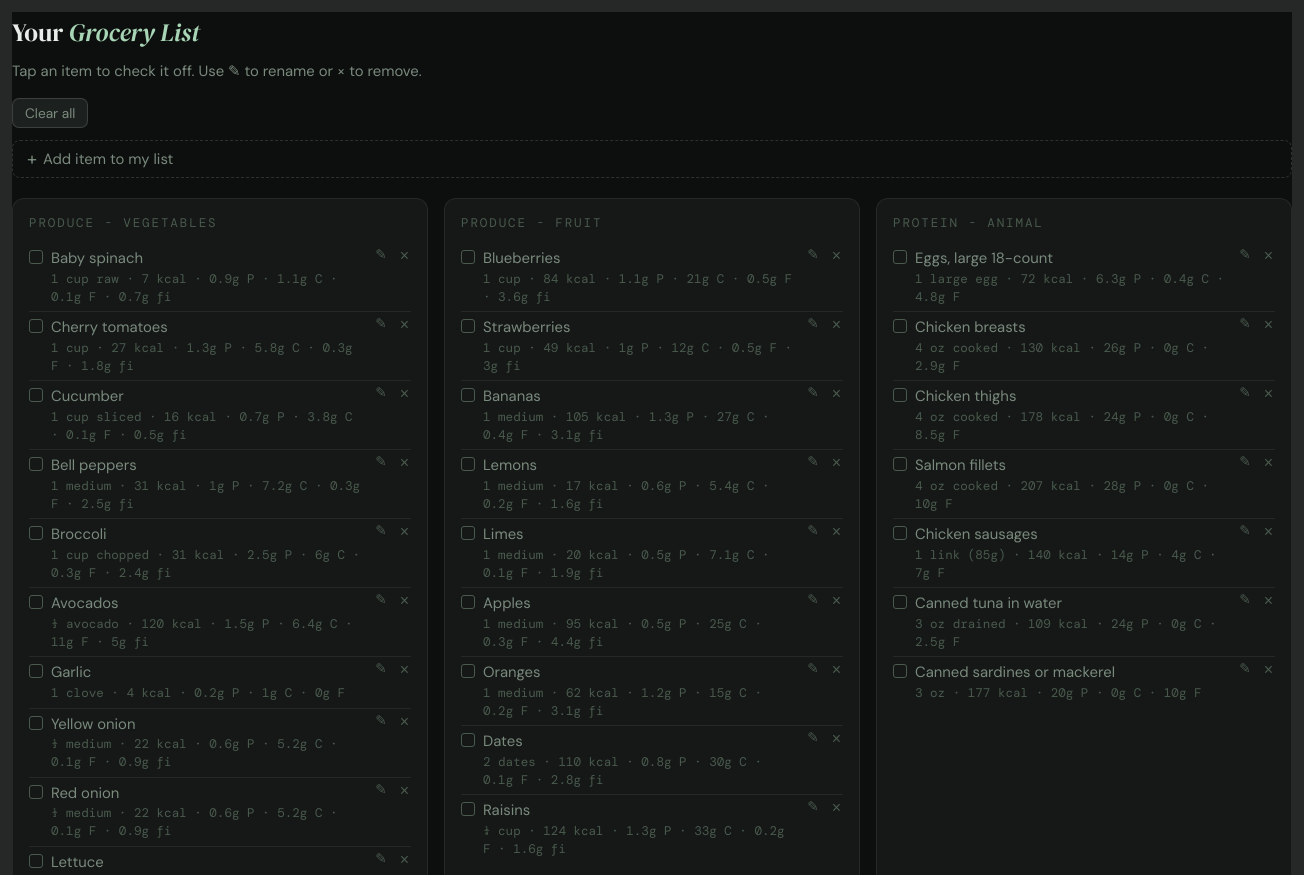
Test: GroceryPanel — dynamic catalog › clicking the toggle reveals the add-item form
Click the button with aria-label "add grocery item" at point(108, 159), box [12,140,1292,178]
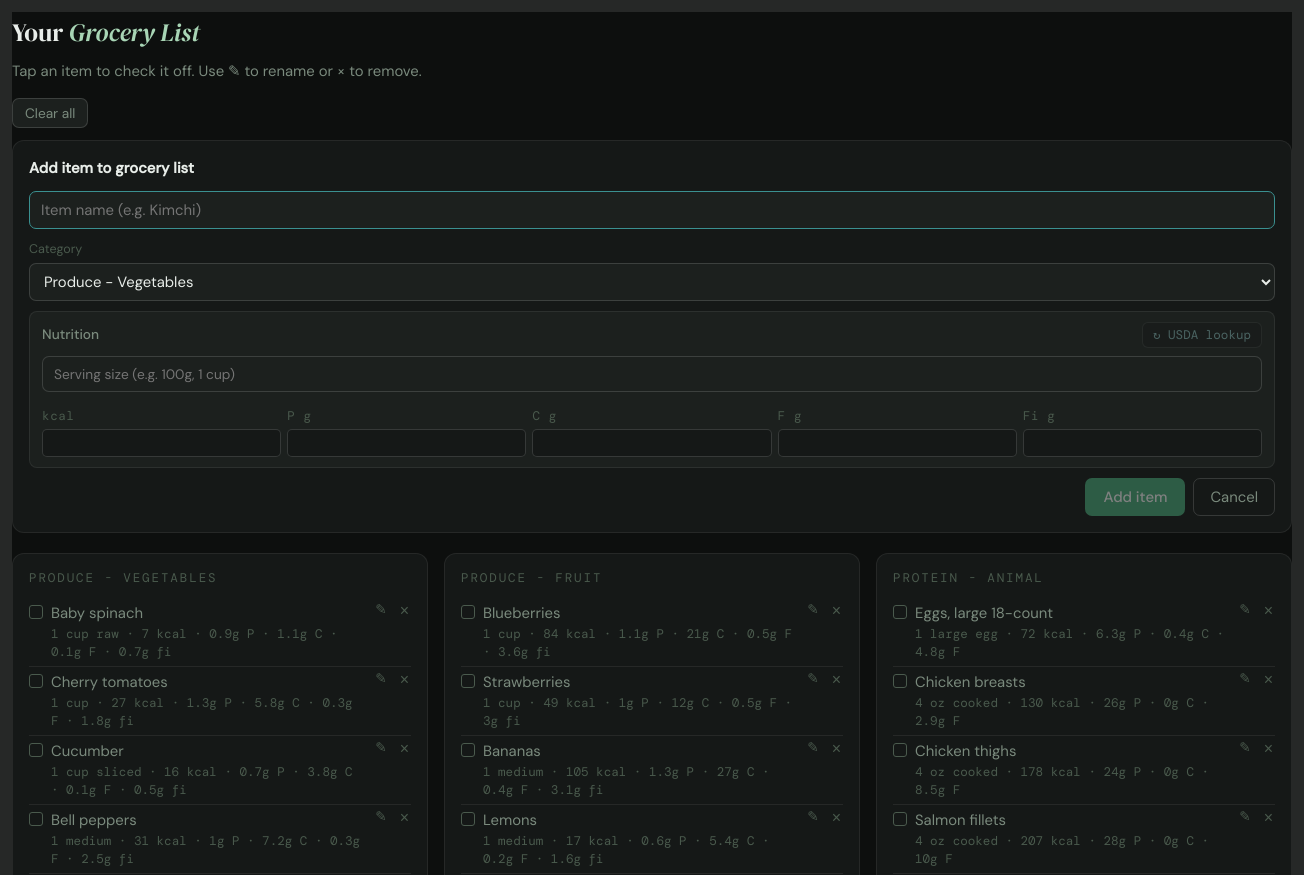
Expected: the field with placeholder "Item name (e.g. Kimchi)" is shown, [29,191,1275,229]
Expected: the button "Add item" is shown, [1086,478,1186,516]
